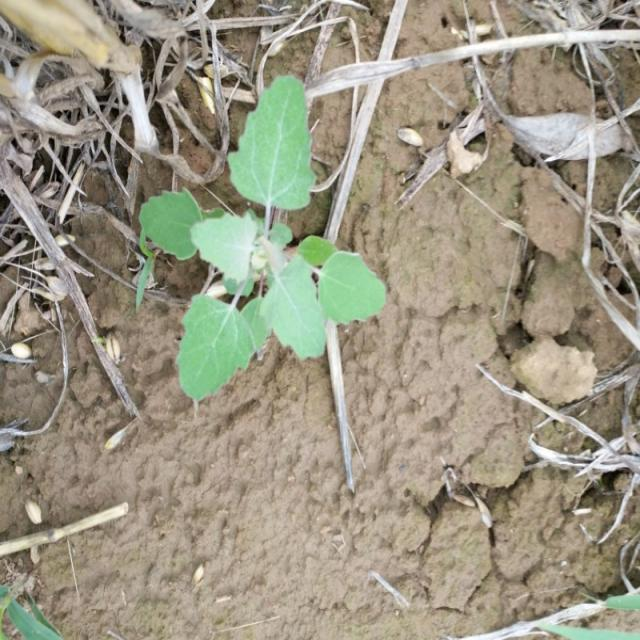goosefoots: (124, 66, 386, 387)
